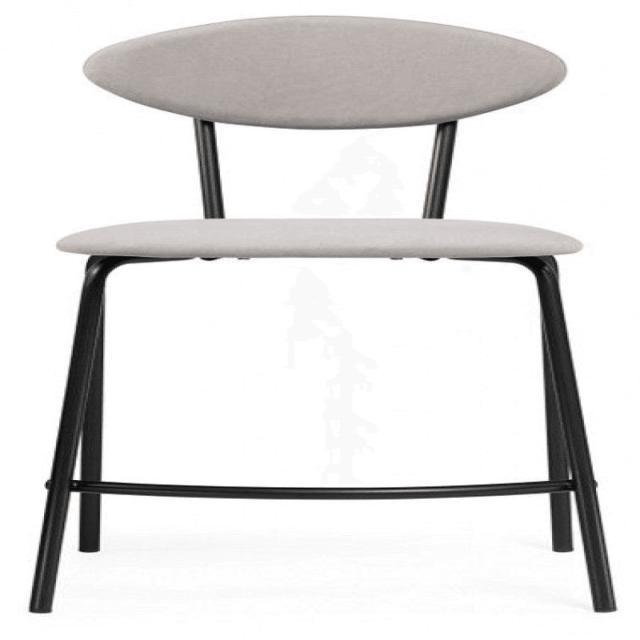chair: (19, 10, 624, 619), (67, 12, 603, 266)
